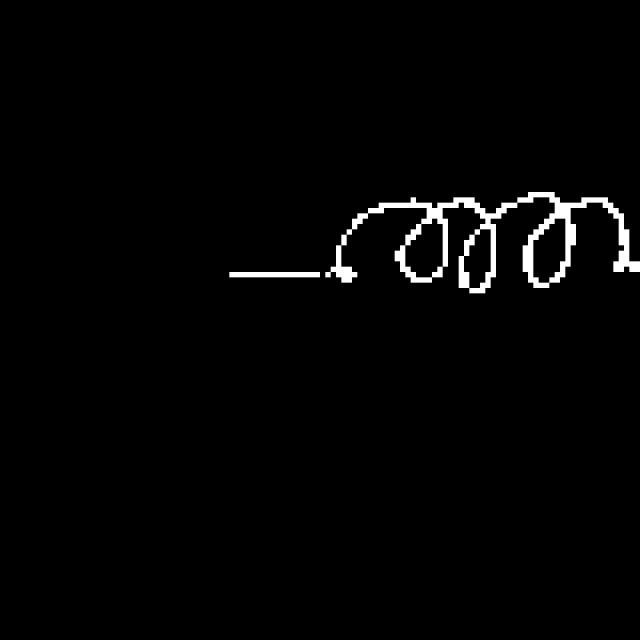inductor: (329, 163, 636, 312)
